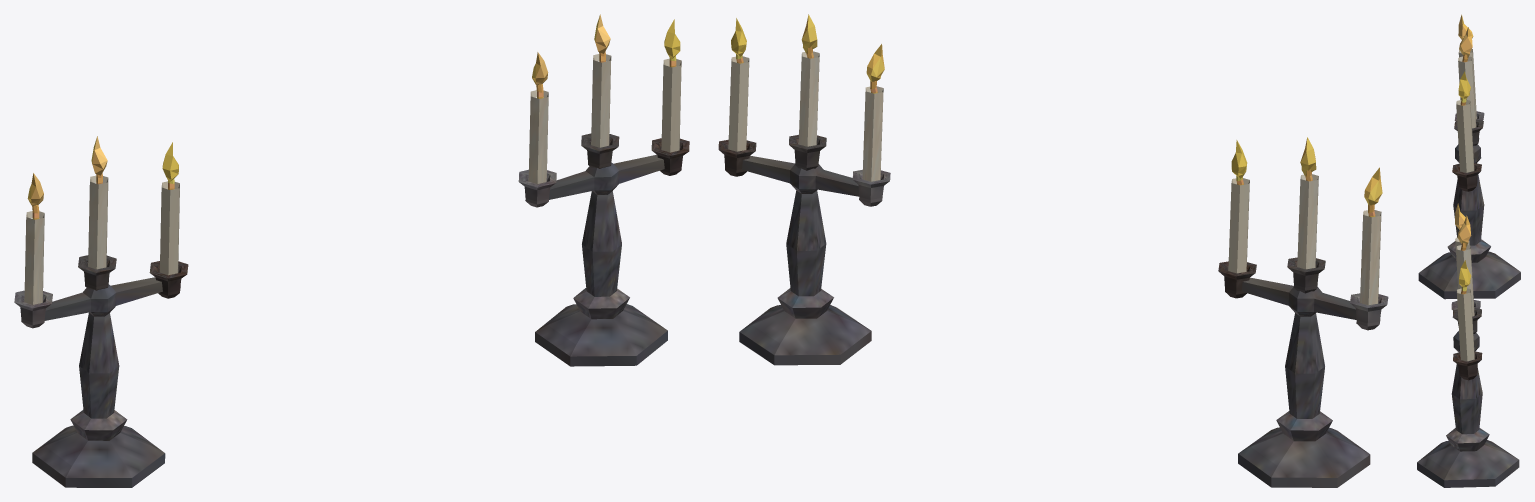
The model's file is candle.fbx.
3 views of the same model, side by side, from view 1: azimuth 30°, elevation 25°; view 2: azimuth 150°, elevation 25°; view 3: azimuth 270°, elevation 25° (orthographic). The views are drawn at different scales.
Visible parts, largest first — view 1: candle.004, candle.015; view 2: candle.004, candle.015; view 3: candle.015, candle.004.
Boxes of the visible parts, x1,y1,x2,y2 form: candle.004: (14,136,188,487); candle.015: (518,14,689,366); candle.004: (1218,137,1388,487); candle.015: (718,14,890,365); candle.015: (1417,203,1519,487); candle.004: (1418,14,1520,299).
Size of the model in its own units: 200 by 93.34 by 34.67.
Materials: 3 (3 with a texture image).
